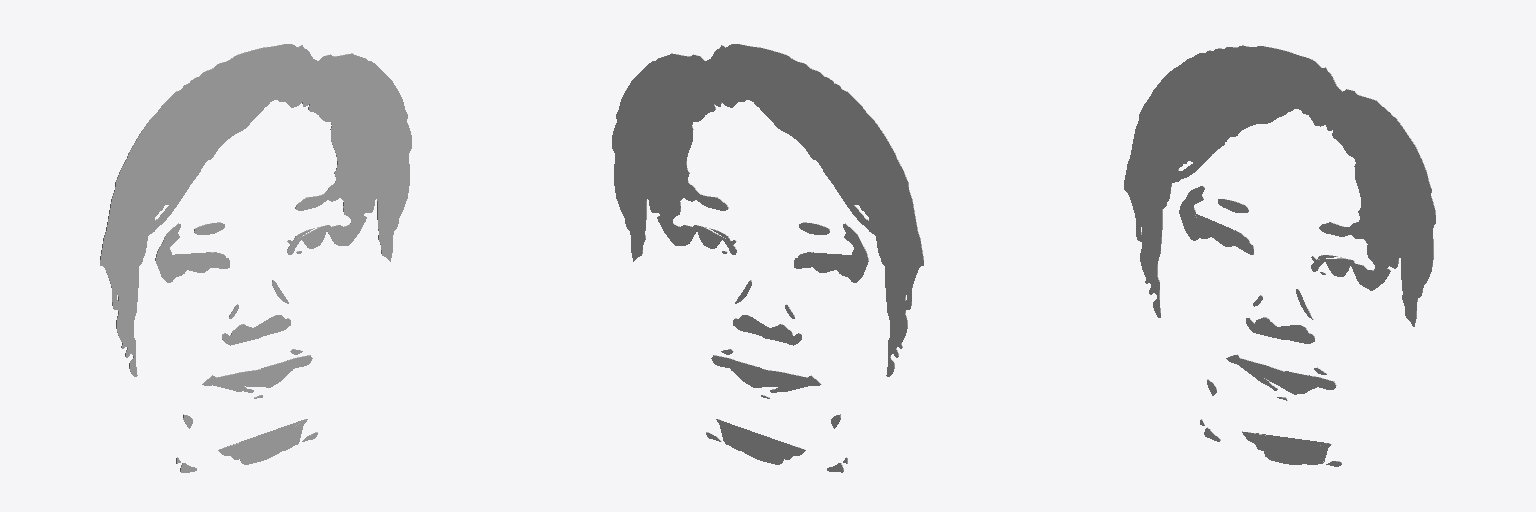
File: monster.obj
3 renders of one model, left to right at view 1: azimuth 30°, elevation 25°; view 2: azimuth 150°, elevation 25°; view 3: azimuth 330°, elevation 25°, orthographic.
Visible parts, largest first — view 1: ??; view 2: ??; view 3: ??.
Boxes of the visible parts, x1,y1,x2,y2 form: ??: [100, 44, 411, 472]; ??: [612, 44, 923, 472]; ??: [1124, 45, 1435, 466].
Bounding box in the file's own units: 668 × 845 × 2.